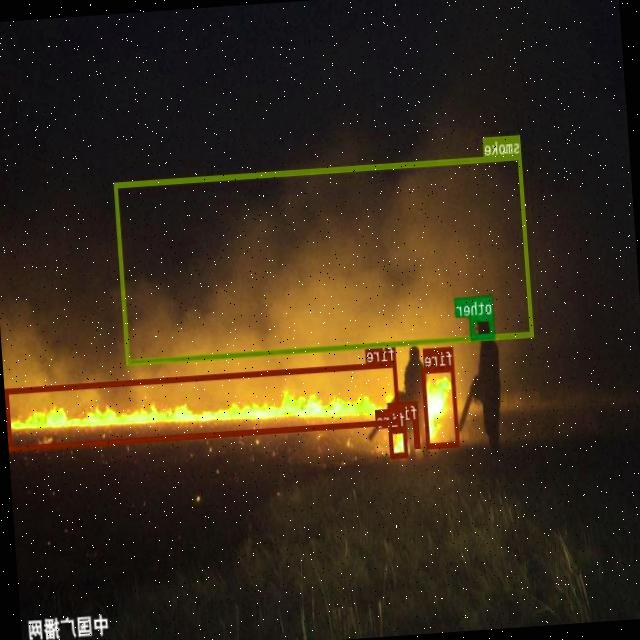fire: (5, 360, 400, 450), (422, 365, 461, 447), (388, 426, 408, 458), (414, 419, 421, 446)
smoke: (114, 152, 534, 364)
